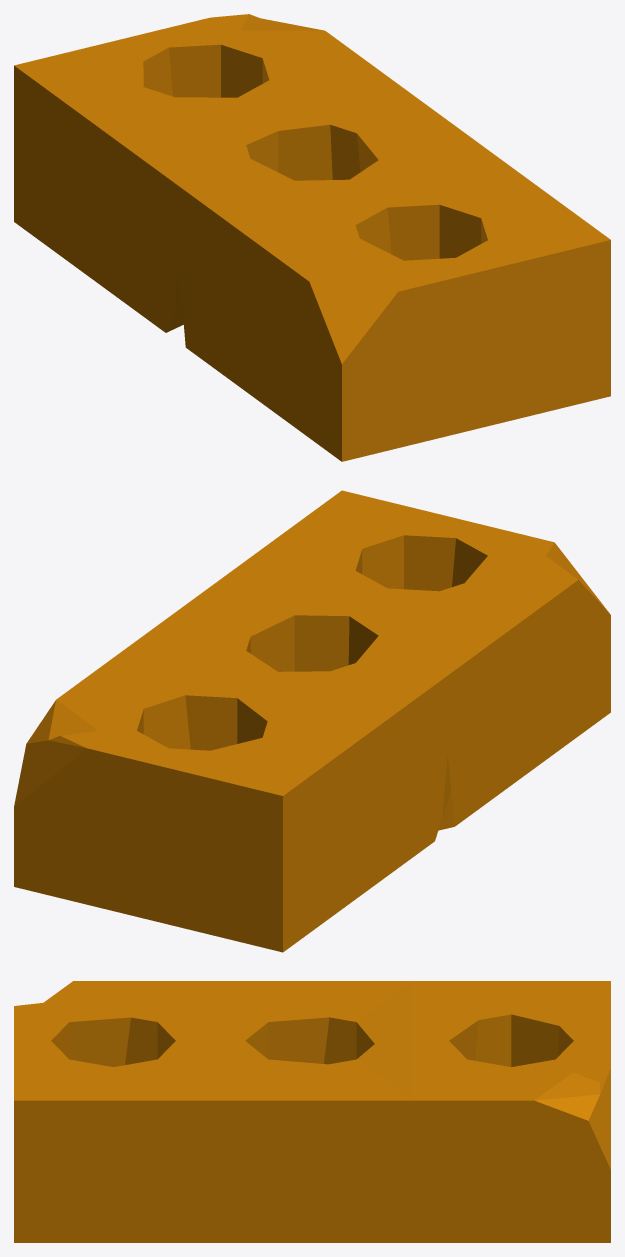
Rendered from Brick_01.fbx.
The picture shows the model from 3 angles, top to bottom: view 1: azimuth 30°, elevation 25°; view 2: azimuth 150°, elevation 25°; view 3: azimuth 270°, elevation 25°; orthographic projection. The views are drawn at different scales.
Visible parts, largest first — view 1: Brick_01; view 2: Brick_01; view 3: Brick_01.
Boxes of the visible parts, x1,y1,x2,y2 form: Brick_01: (14,14,610,461); Brick_01: (14,490,610,952); Brick_01: (14,981,610,1242).
Size of the model in its own units: 9 by 5.13 by 19.
